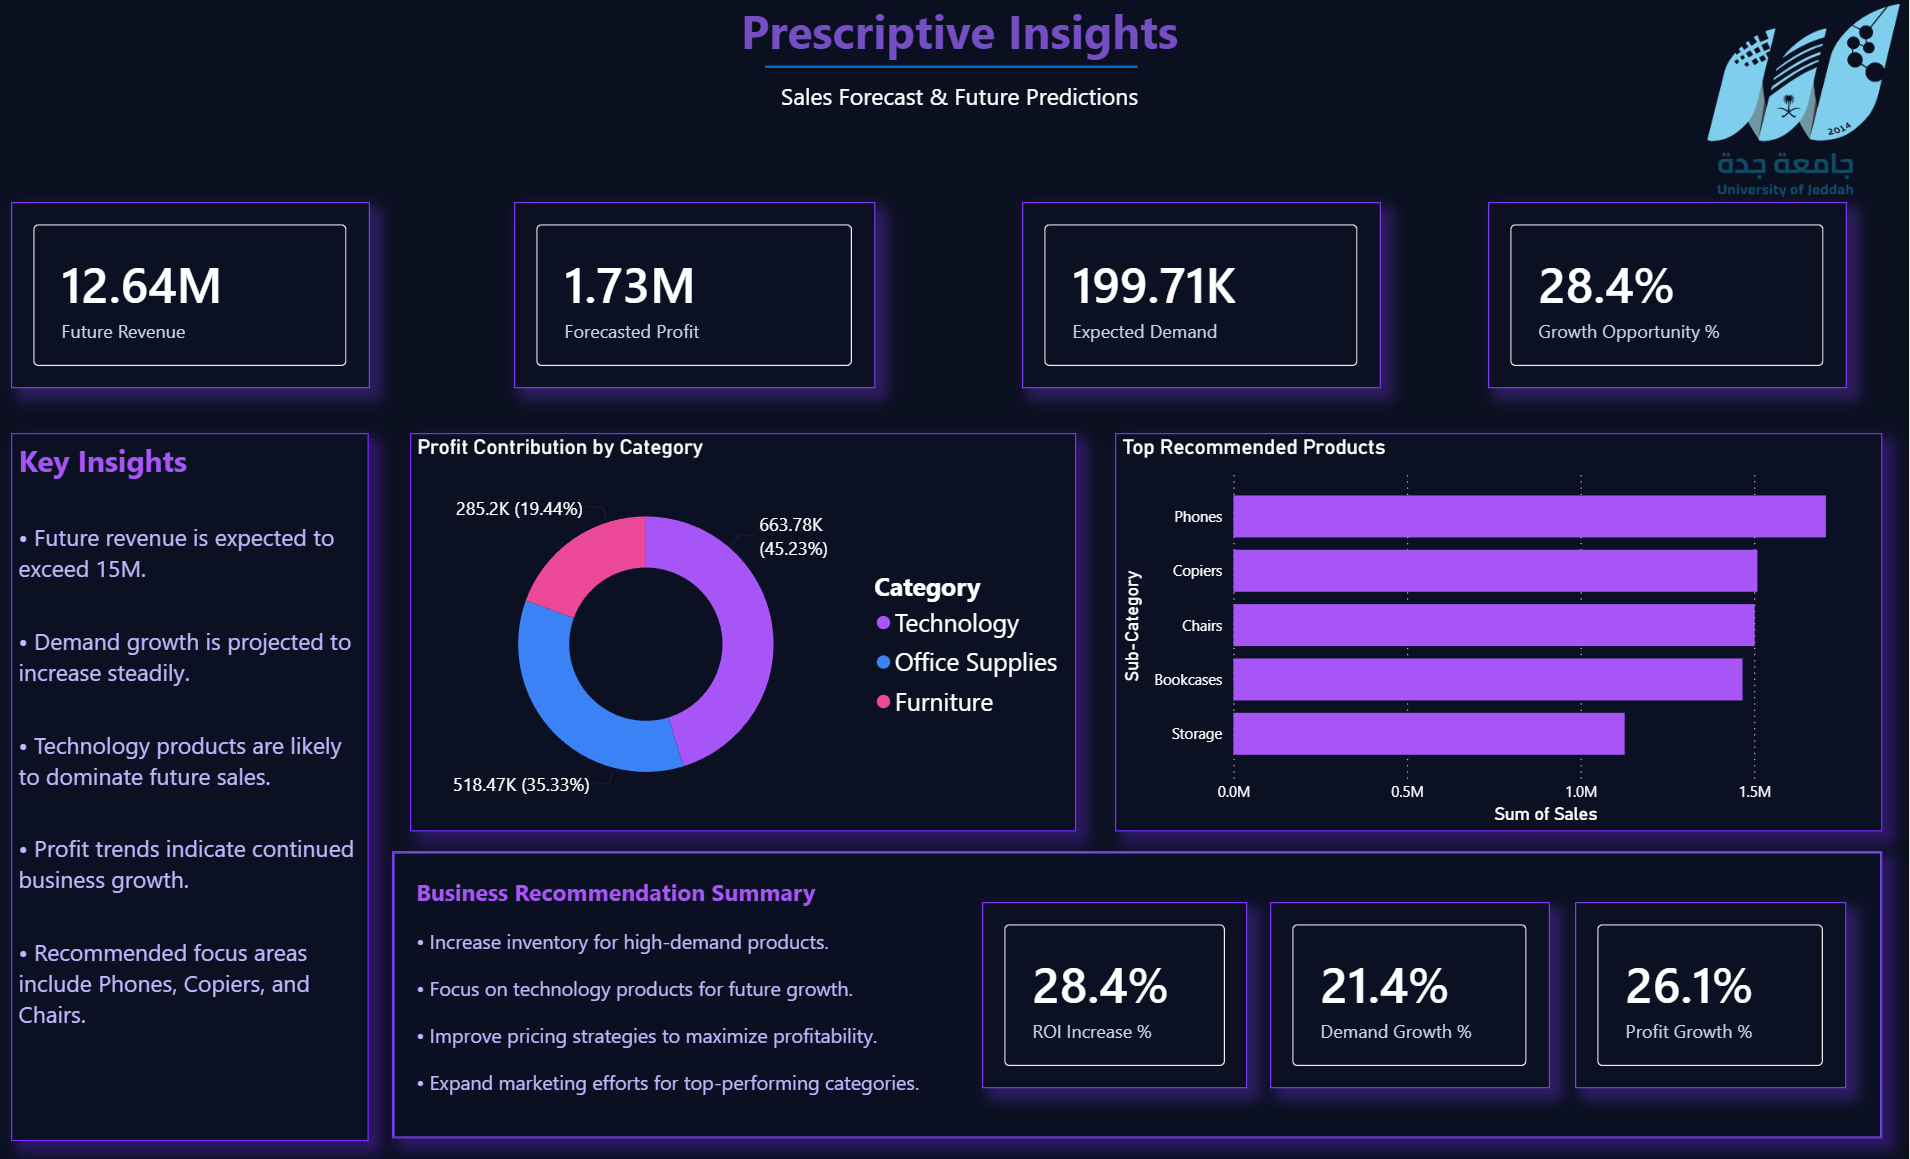

The dashboard page shown, as its layout file describes it:
{"tool":"powerbi","page":{"name":"Prescriptive Insights","canvas":[1550,950],"ordinal":2},"visuals":[{"type":"textbox","box":[11.4,0,1537.8,222],"z":0},{"type":"cardVisual","fields":{"Data":["Sum(Orders.Sales)"]},"box":[11.4,169.3,290.6,151],"z":1000},{"type":"cardVisual","fields":{"Data":["Orders.Forecasted Profit"]},"box":[418.8,169.3,292.9,151],"z":2000},{"type":"cardVisual","fields":{"Data":["Orders.Expected Demand"]},"box":[830.7,169.3,290.6,151],"z":3000},{"type":"cardVisual","fields":{"Data":["Orders.Growth Opportunity %"]},"box":[1208.3,169.3,290.6,151],"z":4000},{"type":"shape","box":[622.4,43.5,302.1,32],"z":5000},{"type":"textbox","box":[11.1,356.5,290.1,573.6],"z":6000},{"type":"donutChart","title":"Profit Contribution by Category","fields":{"Category":["Orders.Category"],"Y":["Sum(Orders.Profit)"]},"box":[334.4,356.5,540.4,323.3],"z":7000},{"type":"clusteredBarChart","title":"Top Recommended Products","fields":{"Category":["Orders.Sub-Category"],"Y":["Sum(Orders.Sales)"]},"box":[906.2,357,622.4,322.7],"z":8000},{"type":"shape","box":[320.4,695.7,1208.3,233.4],"z":9000},{"type":"textbox","box":[334.4,710.9,662.2,203.7],"z":10000},{"type":"cardVisual","fields":{"Data":["Orders.ROI Increase %"]},"box":[798.7,736.9,215.1,151],"z":11000},{"type":"cardVisual","fields":{"Data":["Orders.Demand Growth %"]},"box":[1032.1,736.9,226.6,151],"z":12000},{"type":"cardVisual","fields":{"Data":["Orders.Profit Growth %"]},"box":[1279.2,736.9,219.7,151],"z":13000},{"type":"image","box":[1384.5,9.2,160,160],"z":14000}]}

Visuals, with their boxes in screenshot pixels (x1, y1, x2, y2), scaled from the page's 1550x950 canvas onto the 1910x1159 screenshot:
textbox: bbox(14, 0, 1909, 271)
cardVisual - Sum(Orders.Sales): bbox(14, 207, 372, 391)
cardVisual - Orders.Forecasted Profit: bbox(516, 207, 877, 391)
cardVisual - Orders.Expected Demand: bbox(1024, 207, 1382, 391)
cardVisual - Orders.Growth Opportunity %: bbox(1489, 207, 1847, 391)
shape: bbox(767, 53, 1139, 92)
textbox: bbox(14, 435, 371, 1135)
"Profit Contribution by Category" donutChart: bbox(412, 435, 1078, 829)
"Top Recommended Products" clusteredBarChart: bbox(1117, 436, 1884, 829)
shape: bbox(395, 849, 1884, 1134)
textbox: bbox(412, 867, 1228, 1116)
cardVisual - Orders.ROI Increase %: bbox(984, 899, 1249, 1083)
cardVisual - Orders.Demand Growth %: bbox(1272, 899, 1551, 1083)
cardVisual - Orders.Profit Growth %: bbox(1576, 899, 1847, 1083)
image: bbox(1706, 11, 1903, 206)
